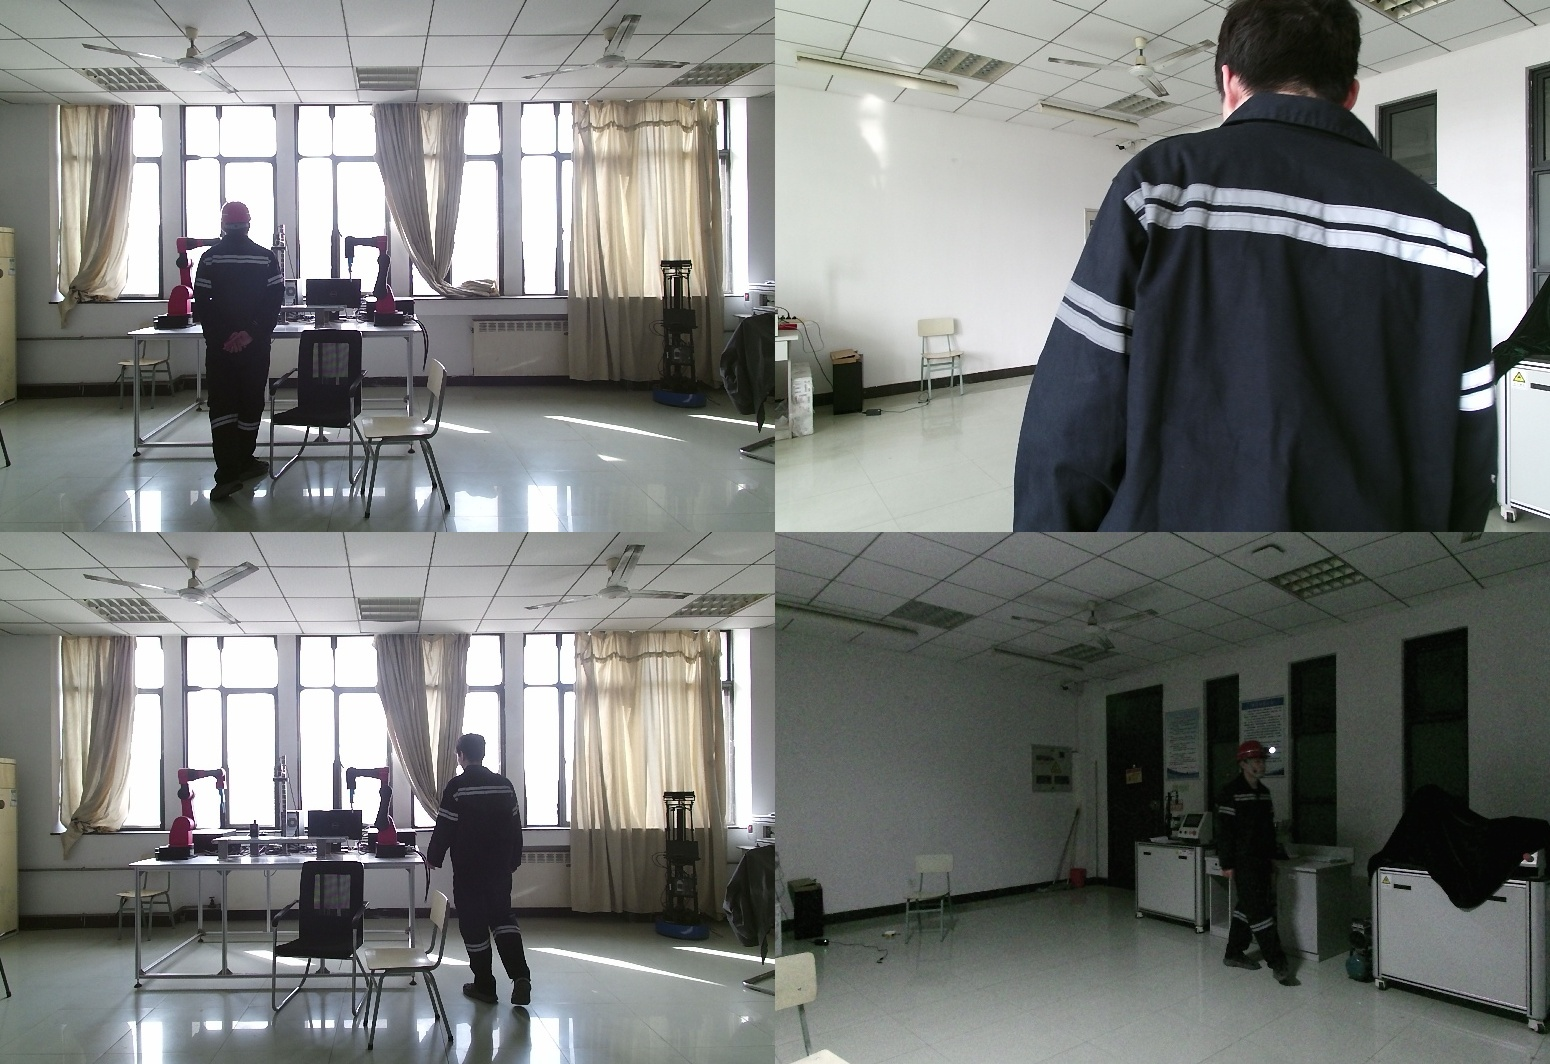person: (1014, 2, 1497, 532), (190, 202, 294, 498), (432, 736, 538, 1006), (1211, 739, 1300, 983)
